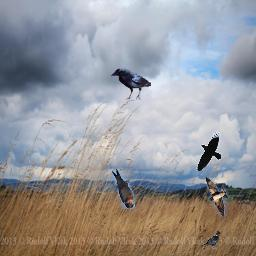Crow: (111, 68, 151, 100), (196, 131, 221, 171), (203, 231, 220, 250)
Swallow: (206, 177, 233, 217), (112, 169, 135, 209)
